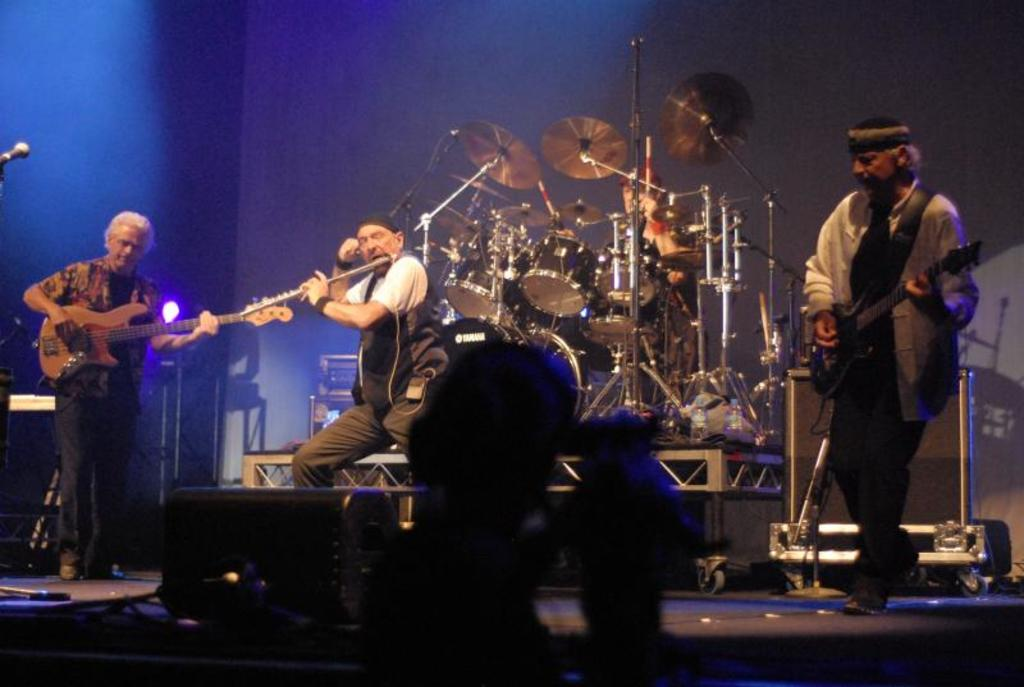guitar: (806, 237, 988, 401), (37, 298, 296, 384)
